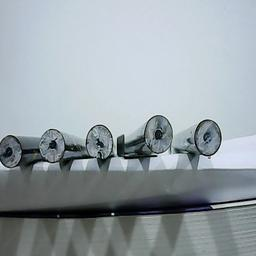pen: (142, 113, 175, 153), (193, 118, 224, 157), (84, 123, 115, 162), (39, 127, 67, 164), (1, 133, 23, 170)
